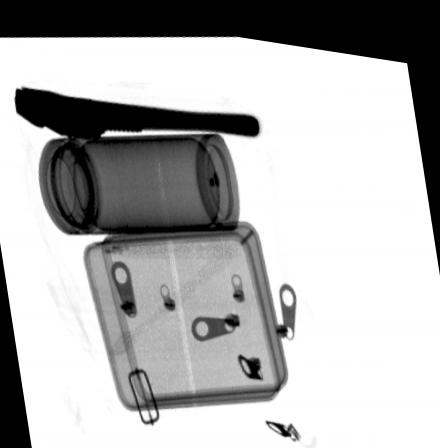Wrench: (12, 83, 264, 137)
